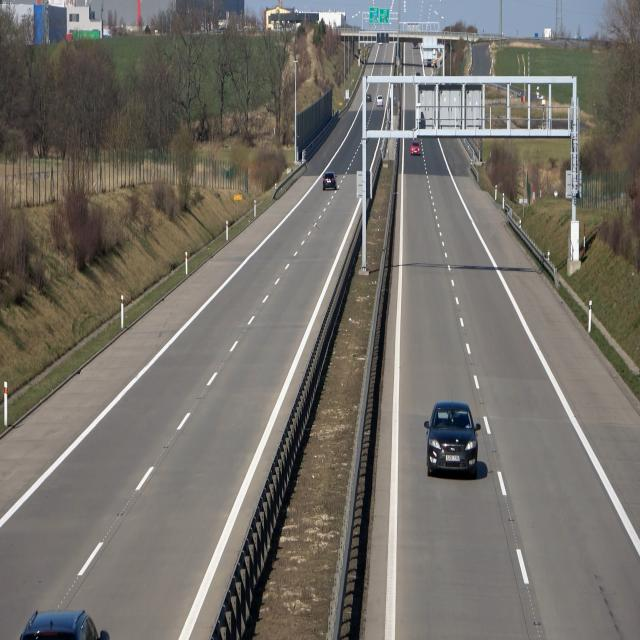Vehicle: (421, 399, 481, 481), (321, 170, 337, 191), (410, 141, 420, 156), (376, 95, 384, 107)
